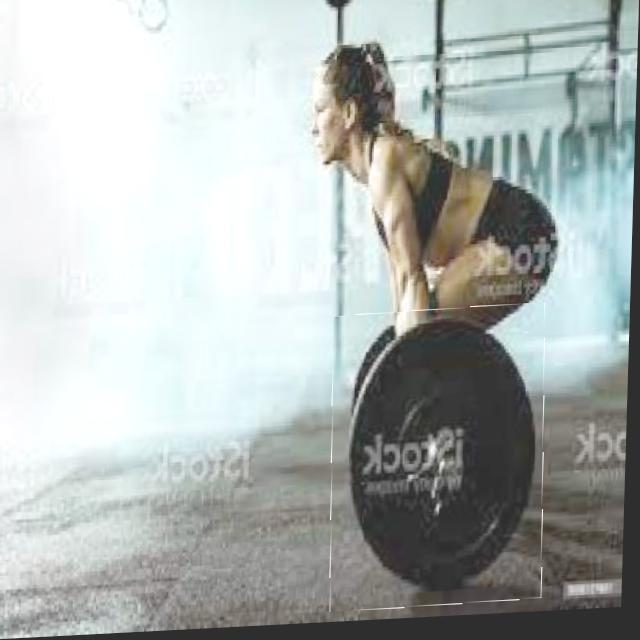barbell: (331, 311, 552, 617)
